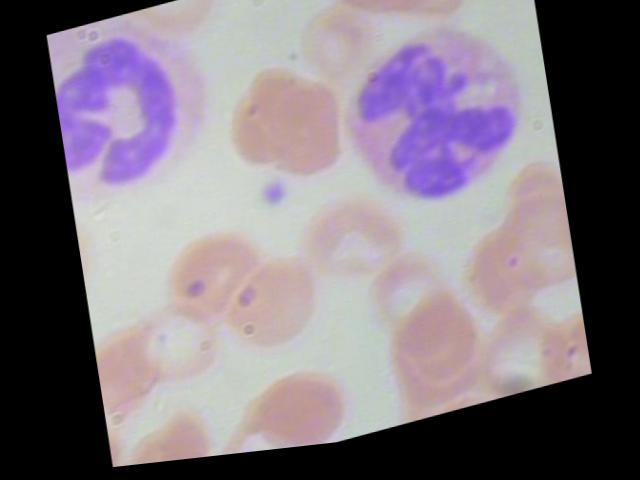Platelets: (255, 178, 290, 218)
White Blood Cells: (328, 4, 544, 248), (45, 0, 226, 233)
